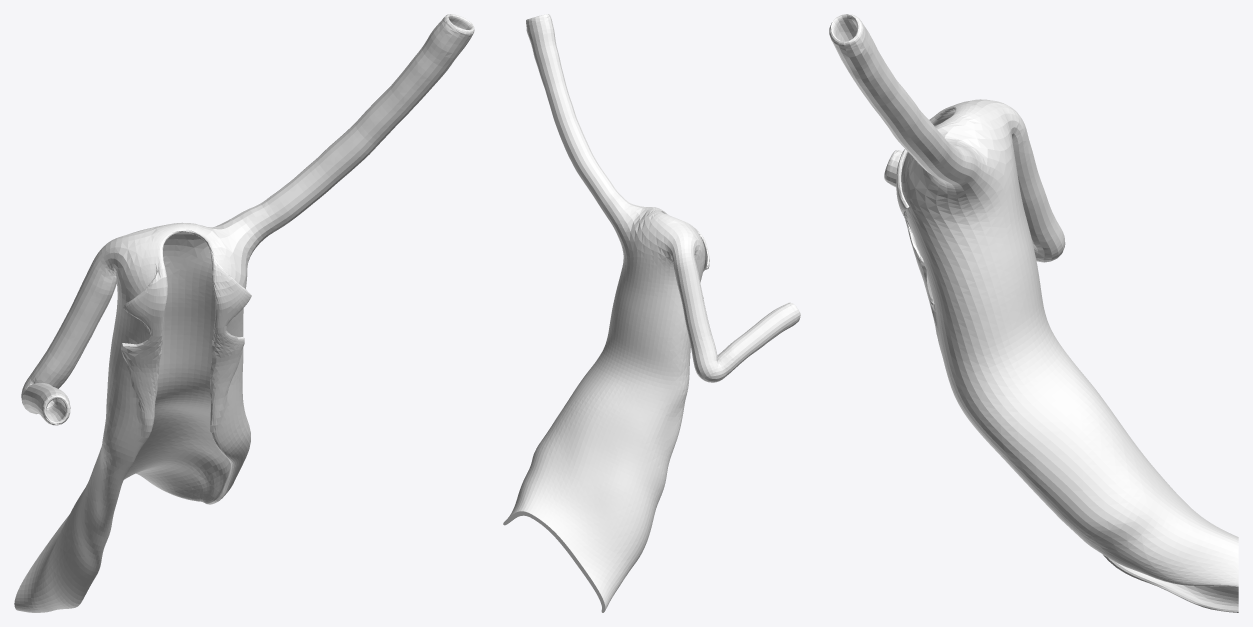
Rendered from plast.OBJ.
The picture shows the model from 3 angles, left to right: view 1: azimuth 30°, elevation 25°; view 2: azimuth 150°, elevation 25°; view 3: azimuth 270°, elevation 25°; orthographic projection. The views are drawn at different scales.
Parts seen in each view (by area): view 1: ZBrushPolyMesh3D; view 2: ZBrushPolyMesh3D; view 3: ZBrushPolyMesh3D.
Boxes of the visible parts, <box> form: ZBrushPolyMesh3D: <box>14,14,474,612</box>; ZBrushPolyMesh3D: <box>503,14,800,612</box>; ZBrushPolyMesh3D: <box>829,14,1238,612</box>.
Size of the model in its own units: 1.76 by 2.71 by 1.36.
